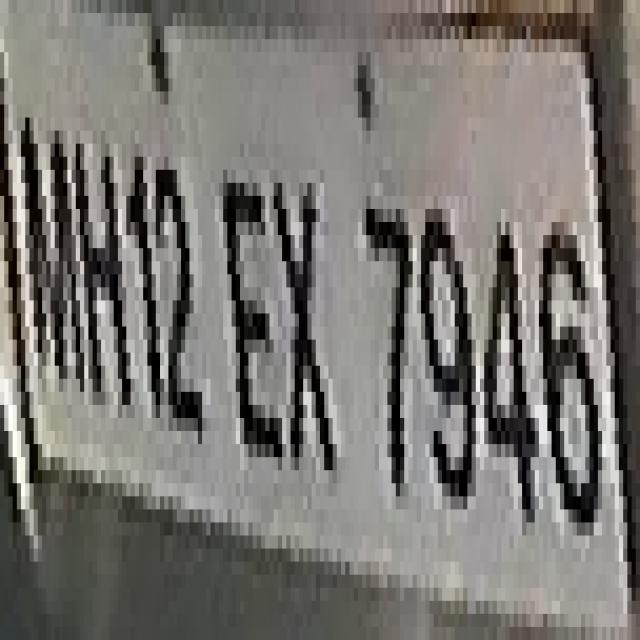license_plate: (21, 13, 640, 614)
